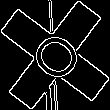O_SE: (22, 23, 88, 87)
